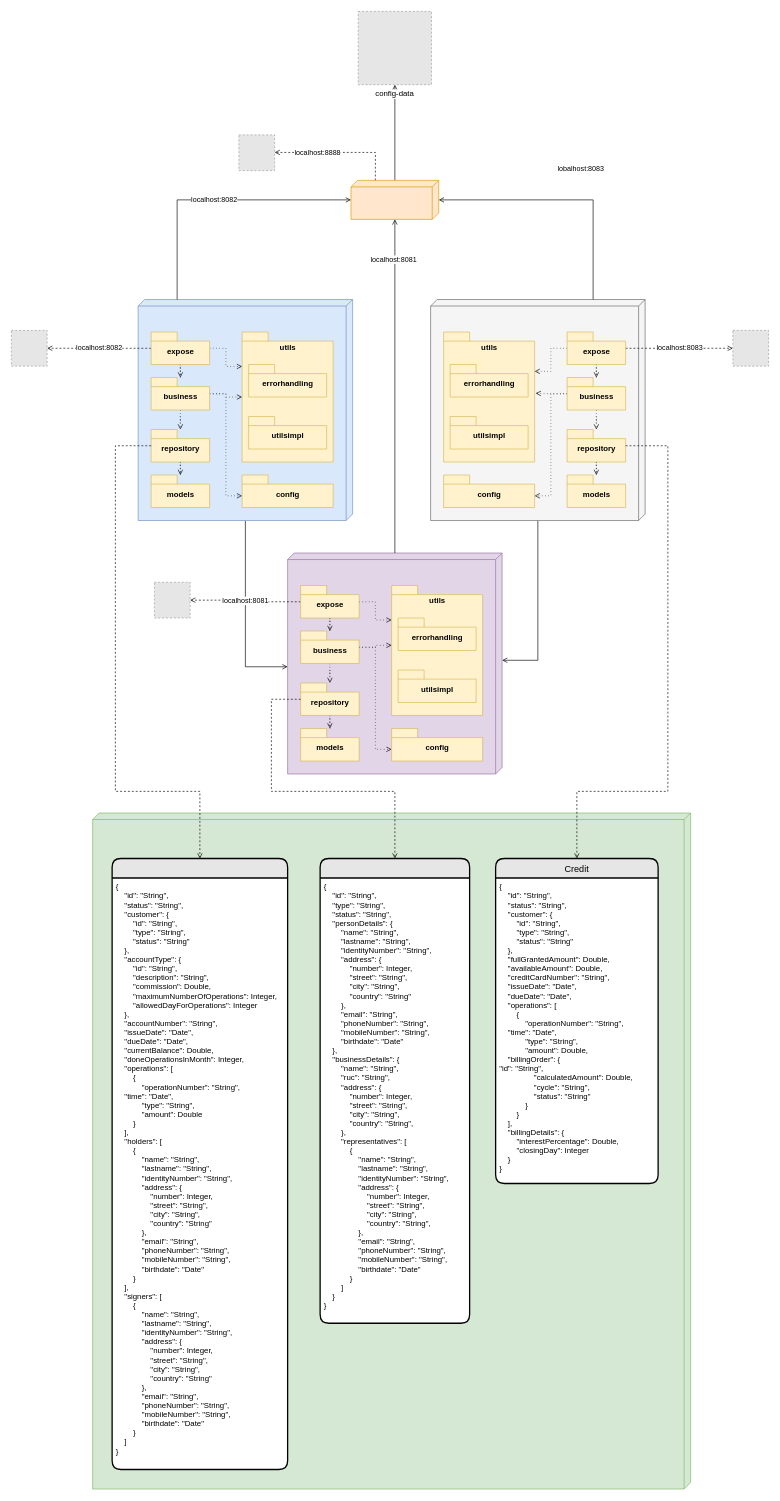
Some shapes in this 780 by 1501 pixel diagram are drawn without their labels. Grey dashed boxes stand in for pictures. Here are the shapes that lost their labels. From the top down, the box of each, then its label:
(350, 180, 439, 219): config-server
(137, 299, 353, 521): passive-operations-service
(430, 299, 645, 521): active-operations-service
(287, 552, 502, 774): customer-info-service
(319, 858, 470, 1324): Customers
(111, 858, 288, 1470): Accounts
(92, 812, 691, 1489): mongo-db
